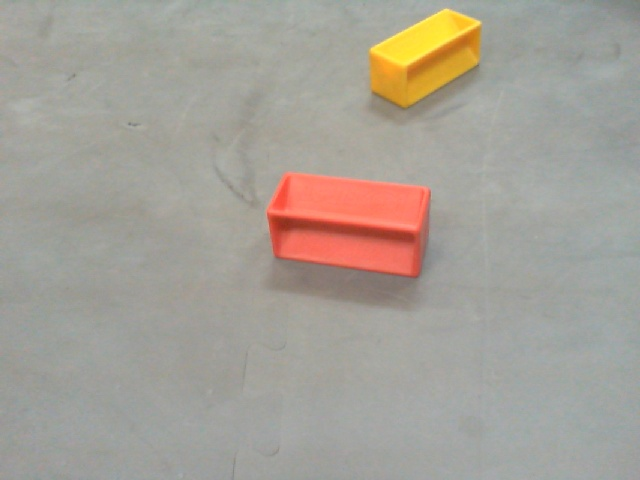RedSample: (266, 171, 430, 276)
YellowSample: (369, 9, 480, 107)
